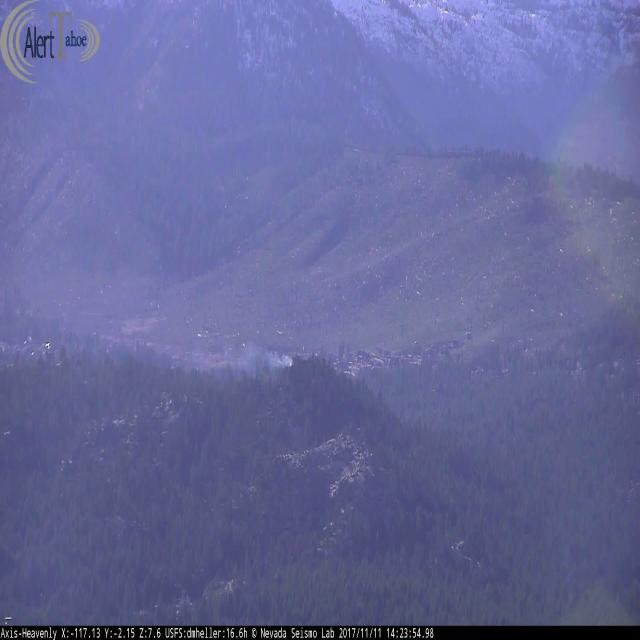smoke: (0, 283, 294, 368)
